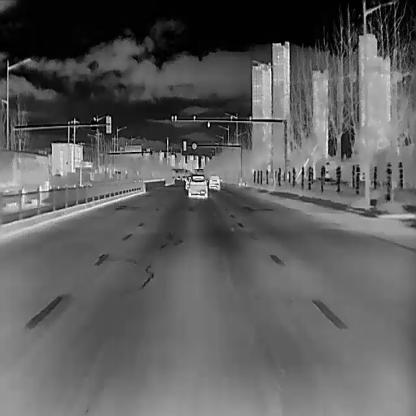bus: (0, 148, 51, 210)
car: (186, 173, 208, 197), (208, 174, 222, 189), (184, 174, 190, 188), (181, 174, 186, 180), (175, 174, 180, 179)
